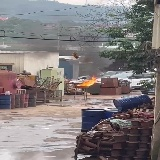fire: (76, 76, 98, 86)
